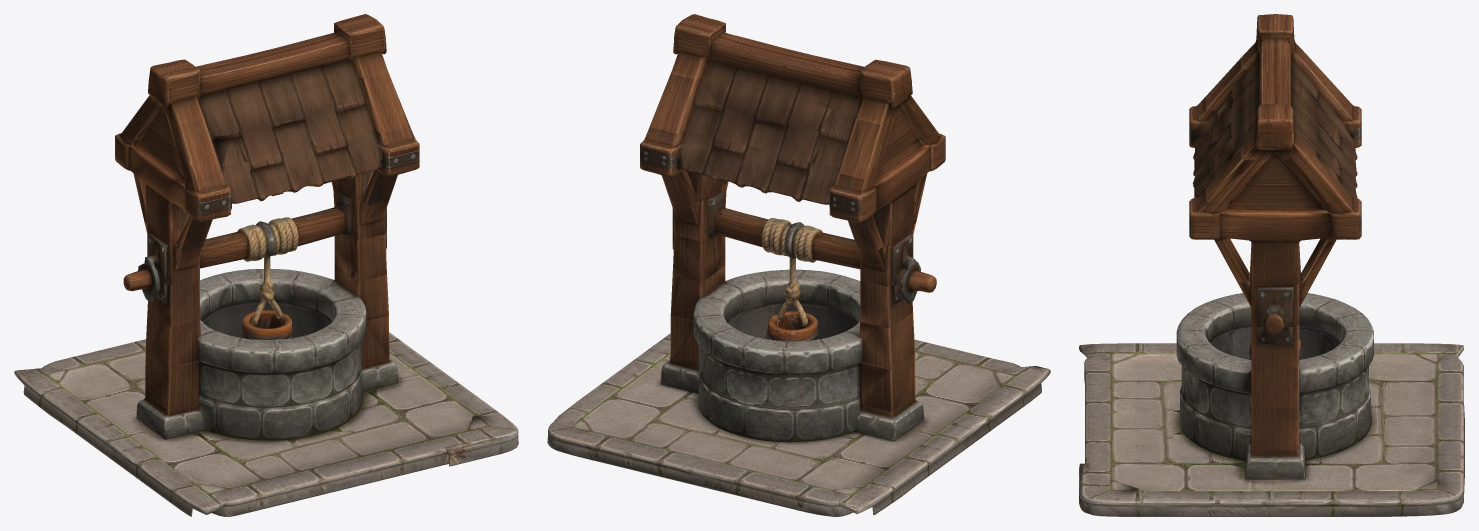
File: WellAnimation_Modular.glb
3 renders of one model, left to right at view 1: azimuth 30°, elevation 25°; view 2: azimuth 150°, elevation 25°; view 3: azimuth 270°, elevation 25°, orthographic.
Visible parts, largest first — view 1: BA_Floor_01, BA_Wall_01, BA_Trim_02, BA_Trim_01, BA_Roof_01, BA_Floor_02, BA_Wall_03, BA_Wall_02, BA_Wall_04; view 2: BA_Floor_01, BA_Wall_01, BA_Trim_02, BA_Trim_01, BA_Roof_01, BA_Floor_02, BA_Wall_03, BA_Wall_02, BA_Wall_04; view 3: BA_Floor_01, BA_Wall_01, BA_Trim_02, BA_Trim_01, BA_Floor_02, BA_Roof_01, BA_Wall_04, BA_Wall_03, BA_Wall_02.
Boxes of the visible parts, box(x1,y1,x2,y2) form: BA_Floor_01: box(14, 332, 518, 516); BA_Wall_01: box(145, 265, 388, 373); BA_Trim_02: box(125, 72, 409, 179); BA_Trim_01: box(115, 126, 419, 221); BA_Roof_01: box(146, 14, 388, 124); BA_Floor_02: box(145, 304, 389, 414); BA_Wall_03: box(123, 181, 389, 287); BA_Wall_02: box(124, 231, 386, 327); BA_Wall_04: box(133, 170, 397, 249); BA_Floor_01: box(547, 333, 1050, 516); BA_Wall_01: box(670, 266, 914, 374); BA_Trim_02: box(649, 73, 935, 179); BA_Trim_01: box(640, 127, 945, 222); BA_Roof_01: box(671, 14, 914, 124); BA_Floor_02: box(670, 305, 915, 415); BA_Wall_03: box(670, 181, 936, 288); BA_Wall_02: box(672, 232, 936, 328); BA_Wall_04: box(661, 170, 927, 249); BA_Floor_01: box(1079, 343, 1464, 516); BA_Wall_01: box(1176, 293, 1373, 408); BA_Trim_02: box(1205, 57, 1345, 202); BA_Trim_01: box(1189, 97, 1361, 243); BA_Floor_02: box(1180, 328, 1370, 450); BA_Roof_01: box(1241, 14, 1309, 159); BA_Wall_04: box(1215, 238, 1335, 284); BA_Wall_03: box(1237, 270, 1313, 328); BA_Wall_02: box(1251, 325, 1299, 366).
Size of the model in its own units: 1.77 by 1.91 by 1.8.
1 material, 1 textured.
